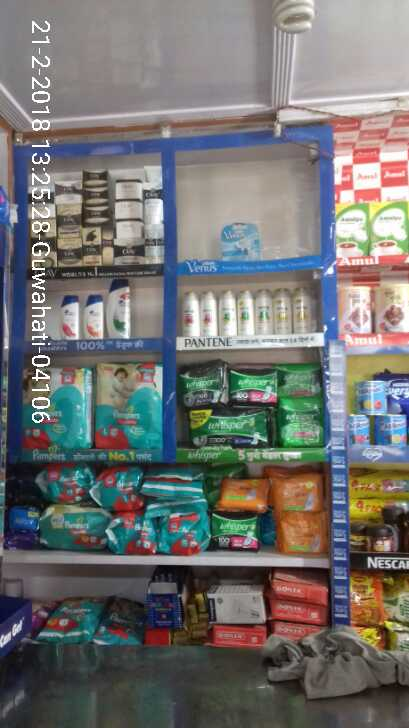venus: (221, 221, 260, 263)
